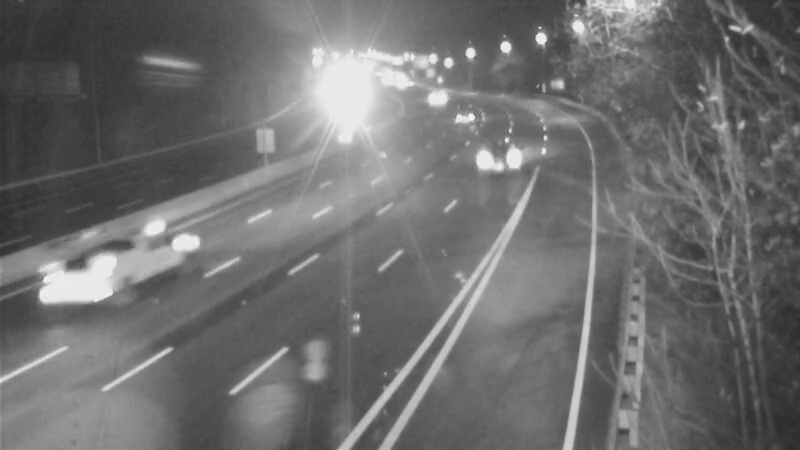vehicle: (461, 119, 541, 199), (40, 231, 120, 311), (407, 68, 457, 118), (439, 89, 489, 139), (311, 90, 361, 140)
